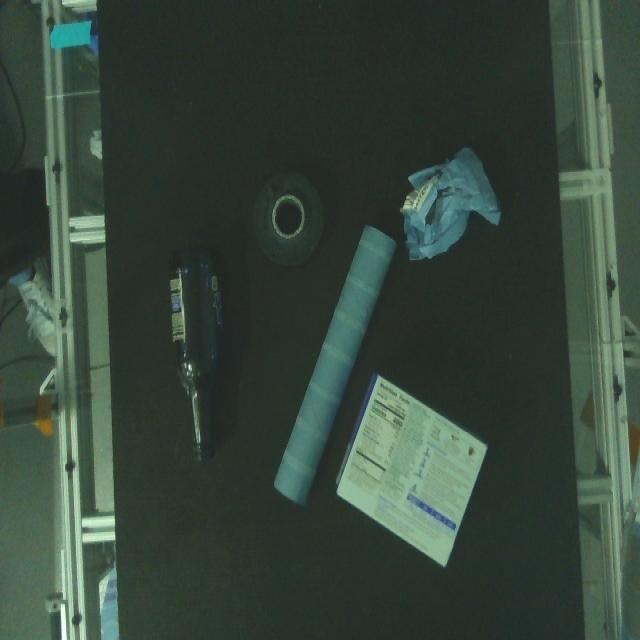non-paper: (168, 241, 228, 462), (250, 168, 326, 269)
paper: (272, 222, 398, 508), (331, 369, 493, 572), (399, 145, 502, 263)
